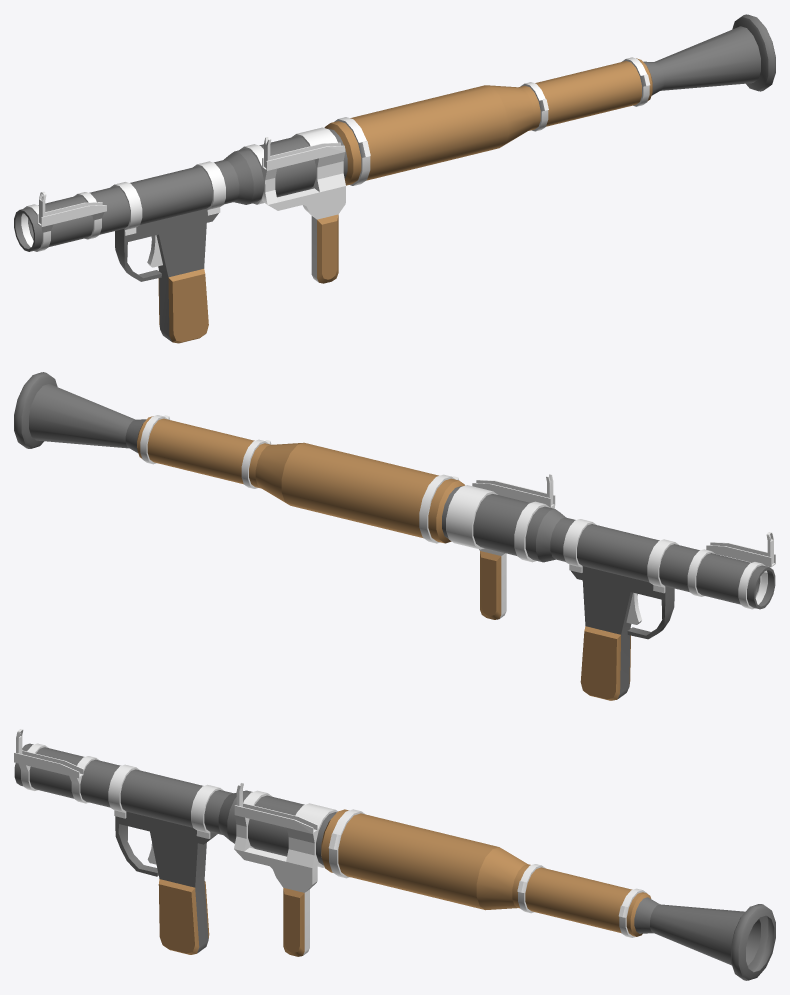
File: Raketenwerfer.fbx
3 views of the same model, one above another, from view 1: azimuth 30°, elevation 25°; view 2: azimuth 150°, elevation 25°; view 3: azimuth 330°, elevation 25° (orthographic).
Visible parts, largest first — view 1: pCube15; view 2: pCube15; view 3: pCube15.
Boxes of the visible parts, x1=… form: pCube15: x1=14, y1=14, x2=775, y2=343; pCube15: x1=14, y1=372, x2=775, y2=700; pCube15: x1=14, y1=729, x2=775, y2=980.
Size of the model in its own units: 54.94 by 13.72 by 4.95.
